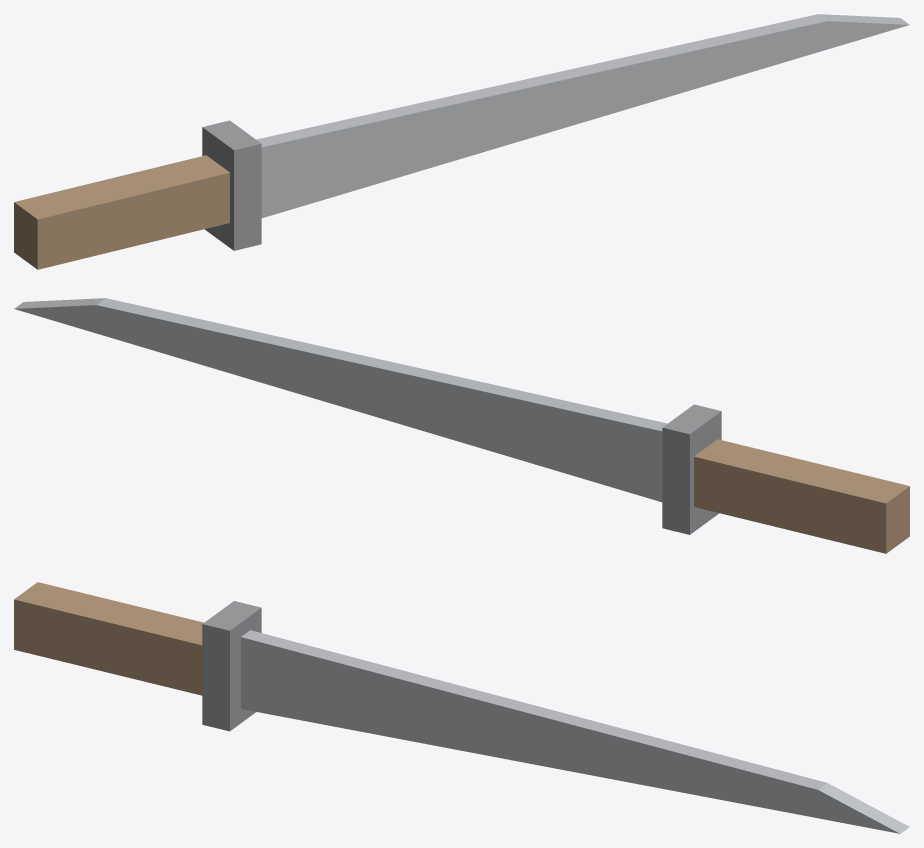
Rendered from held_weapon_machete.glb.
3 renders of one model, top to bottom at view 1: azimuth 30°, elevation 25°; view 2: azimuth 150°, elevation 25°; view 3: azimuth 330°, elevation 25°, orthographic.
Parts seen in each view (by area): view 1: held_weapon_machete; view 2: held_weapon_machete; view 3: held_weapon_machete.
Boxes of the visible parts, bbox=[...] form: held_weapon_machete: bbox=[14, 14, 909, 269]; held_weapon_machete: bbox=[14, 298, 909, 553]; held_weapon_machete: bbox=[14, 582, 909, 833].
Size of the model in its own units: 0.64 by 0.07 by 0.04.
